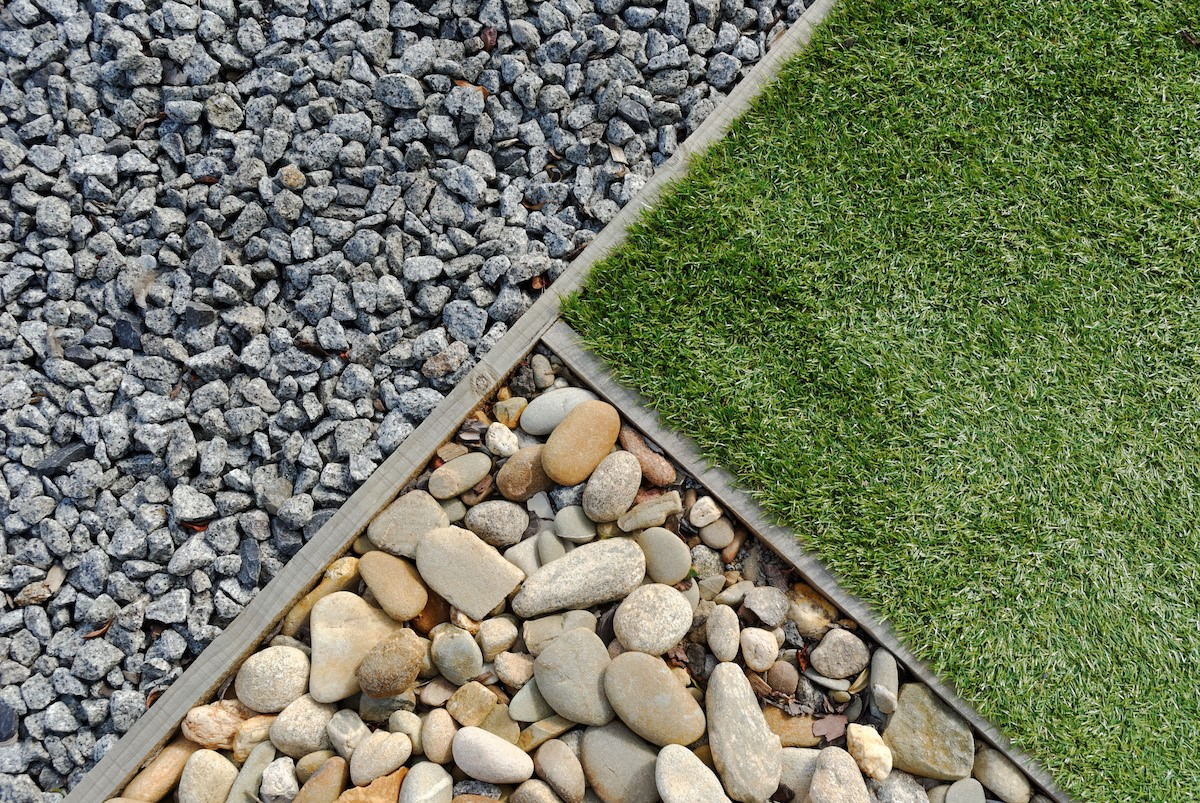grass: (564, 2, 1194, 802)
rock: (0, 1, 1033, 798)
